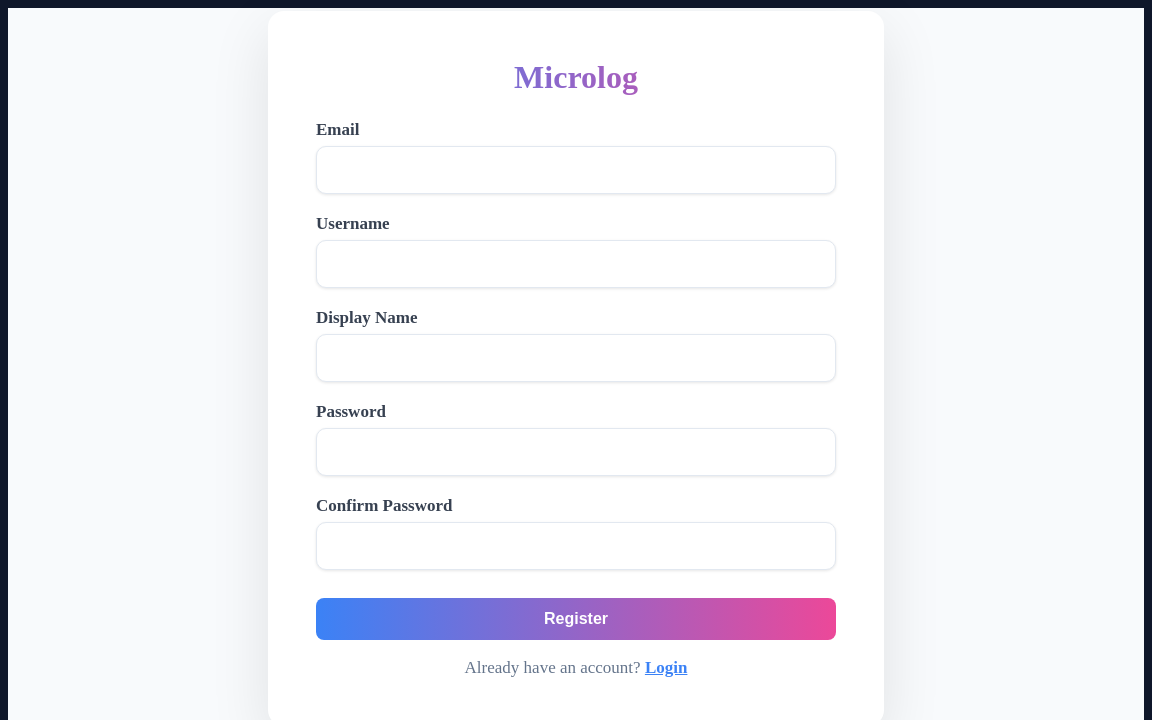
Test: RegisterForm › shows inline error when passwords do not match
This screenshot has width=1152, height=720.
Type "alice@example.com" into the field labelled "Email".
click(576, 170); type("alice@example.com")  # box [316, 146, 836, 194]
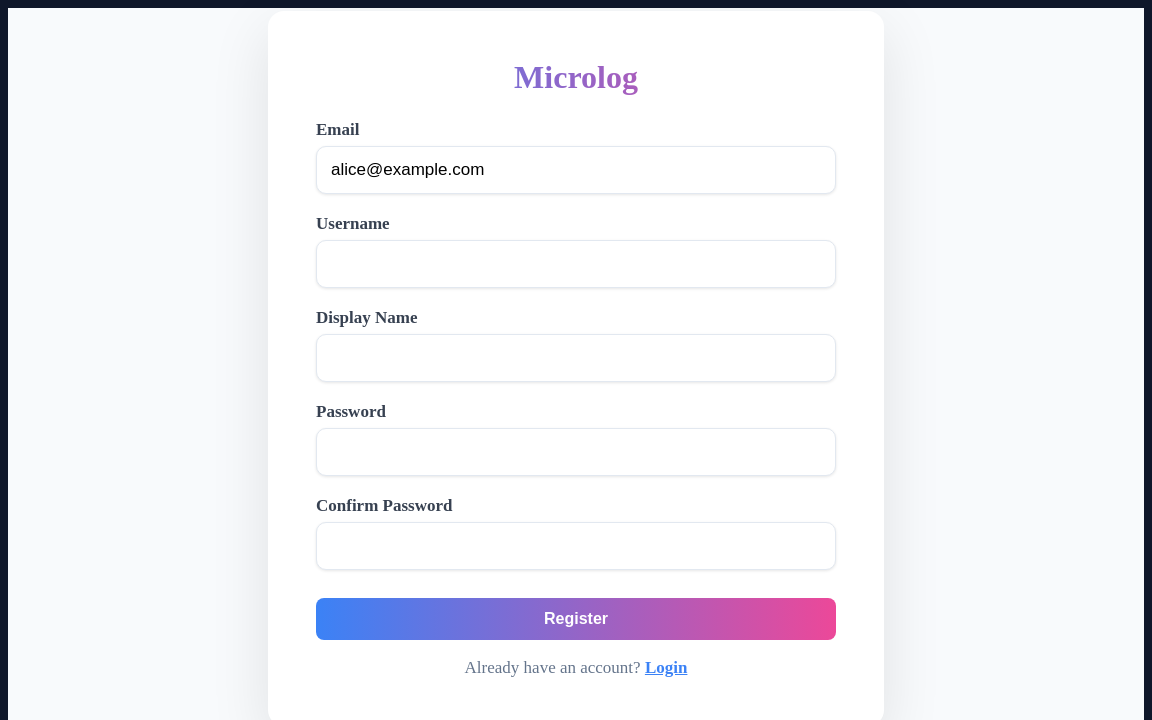
Type "alice_1" into the field labelled "Username".
click(576, 264); type("alice_1")  # box [316, 240, 836, 288]
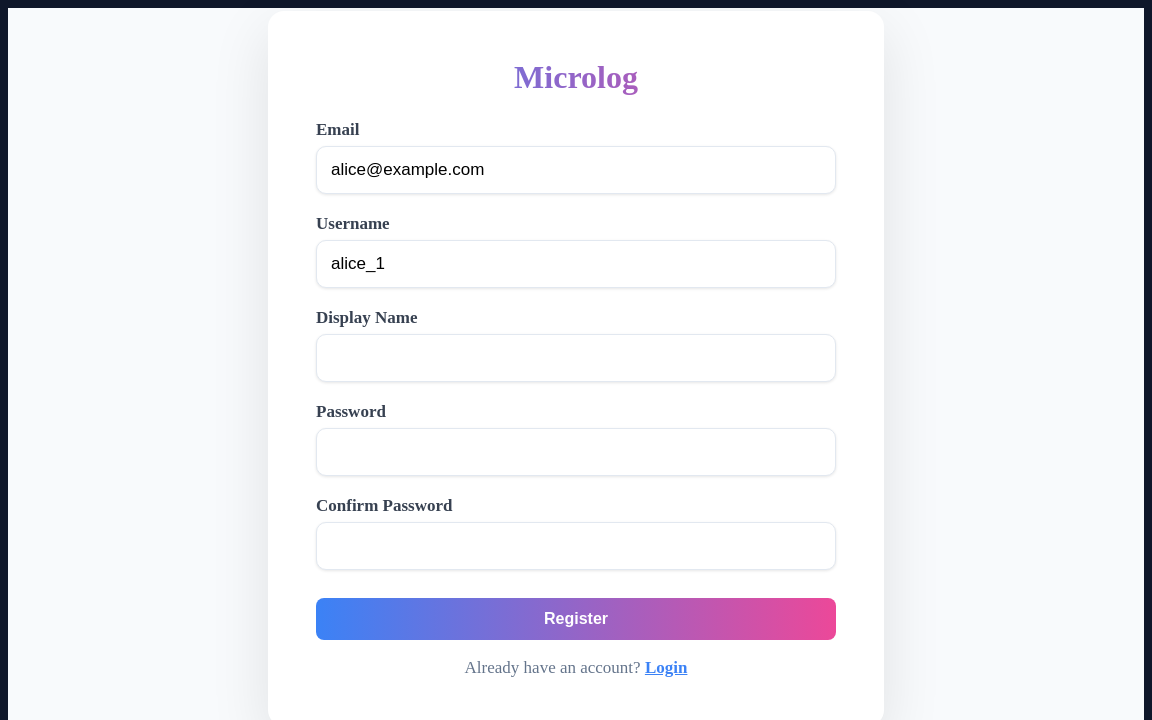
Type "Alice" into the field labelled "Display Name".
click(576, 358); type("Alice")  # box [316, 334, 836, 382]
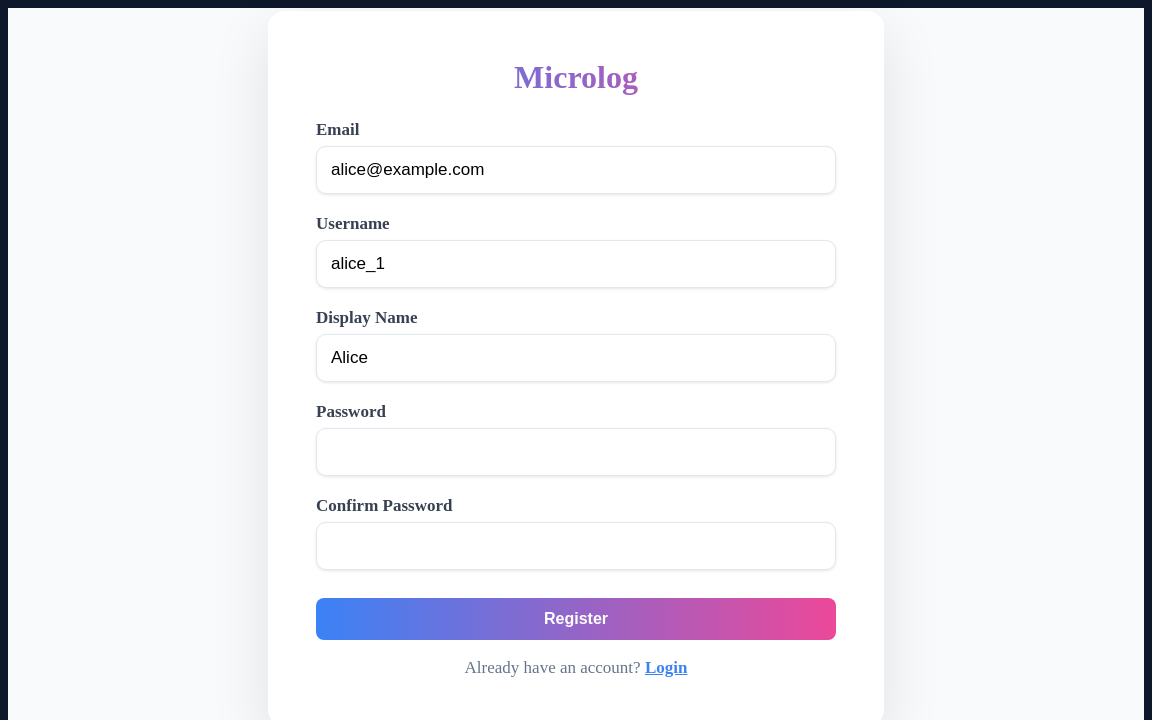
Type "Password1!" into the password field labelled "Password".
click(576, 452); type("Password1!")  # box [316, 428, 836, 476]
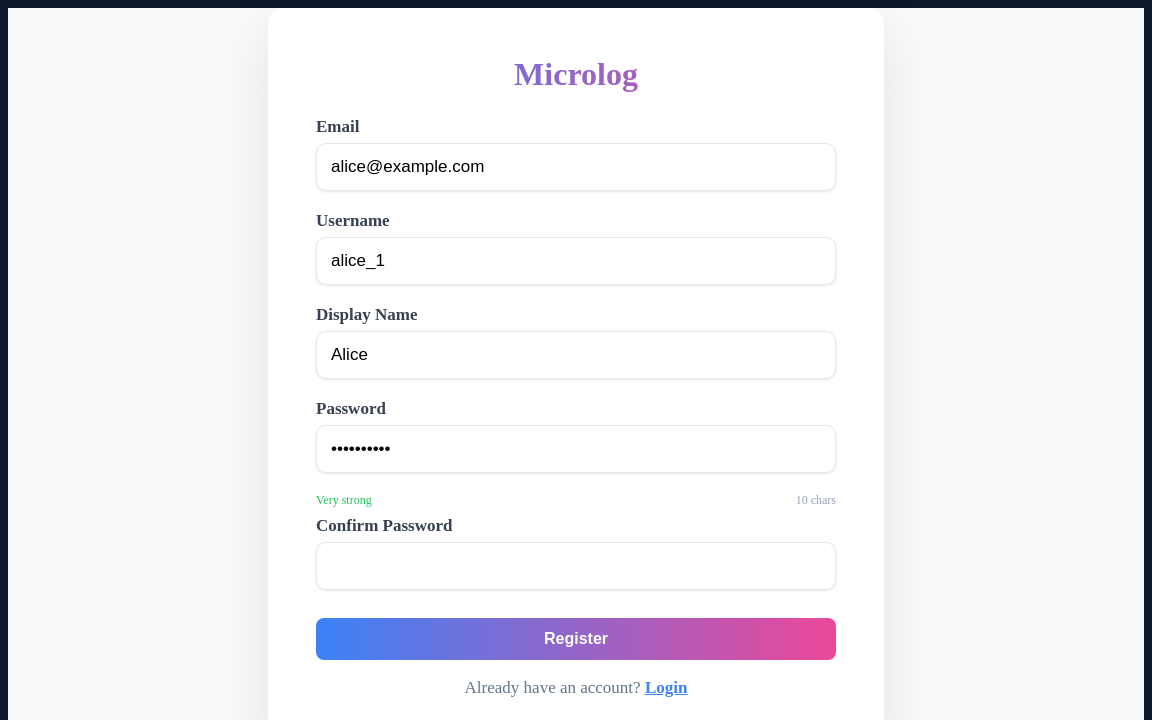
Type "Password1" into the password field labelled "Confirm Password".
click(576, 566); type("Password1")  # box [316, 542, 836, 590]
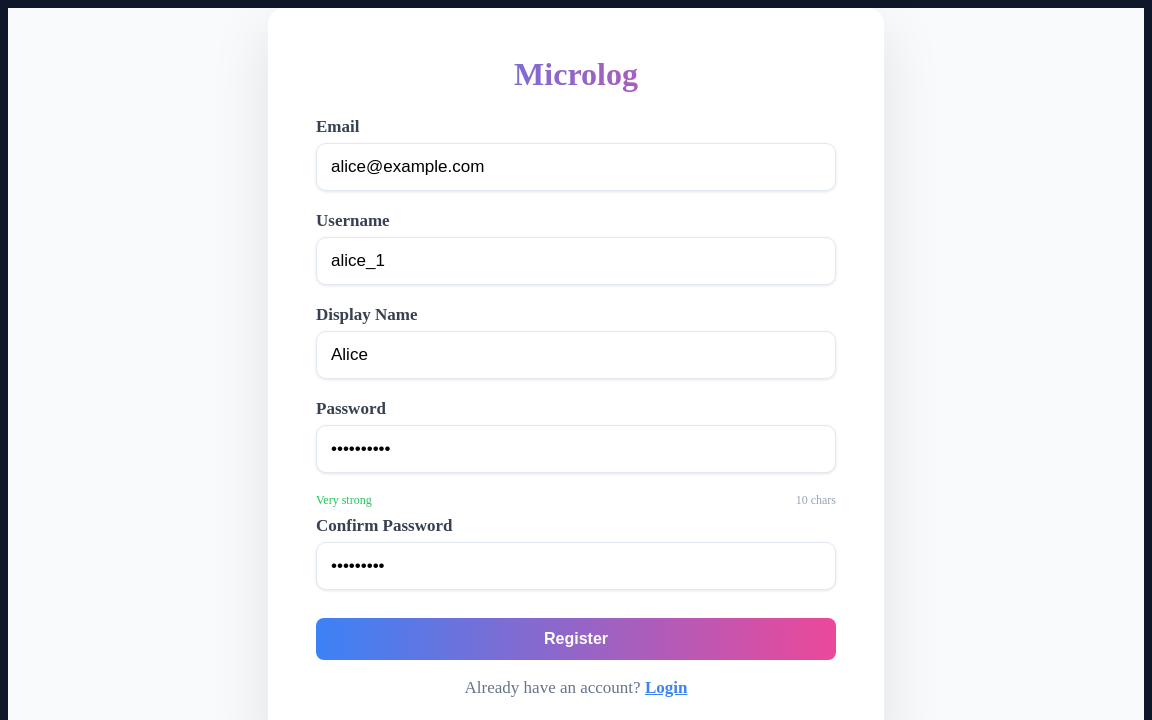
Click the button "Register".
click(576, 639)  # box [316, 618, 836, 660]
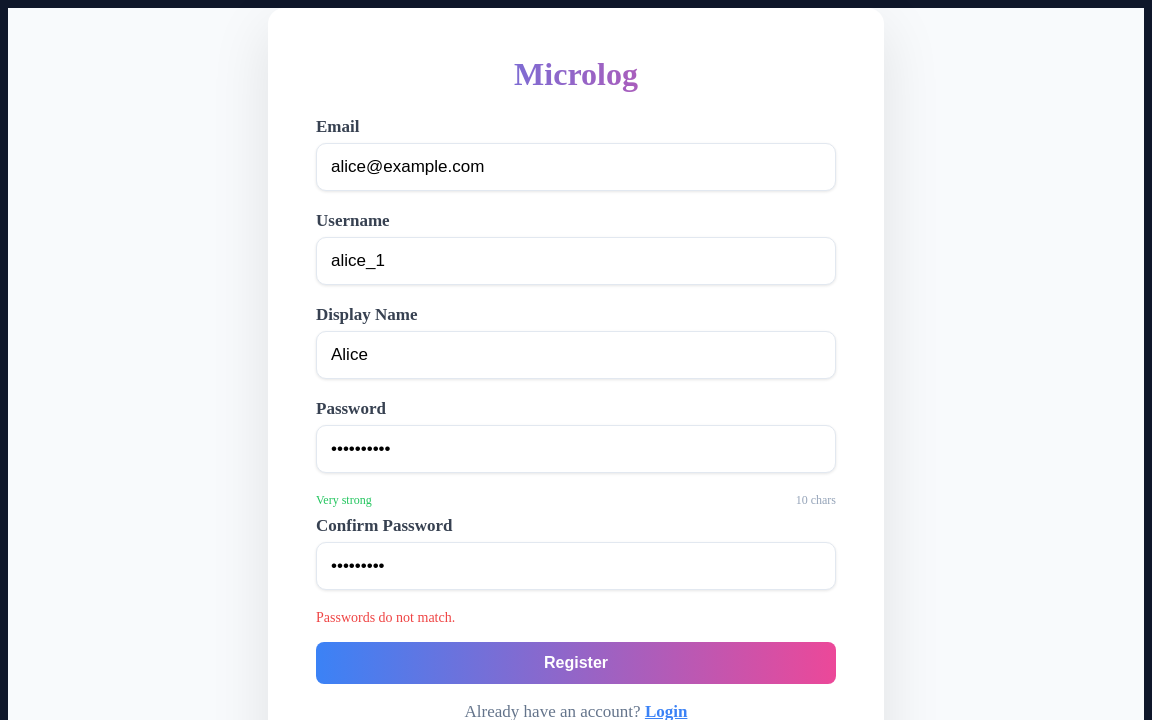
Expected: the text "Passwords do not match." is shown, [316, 610, 455, 625]
